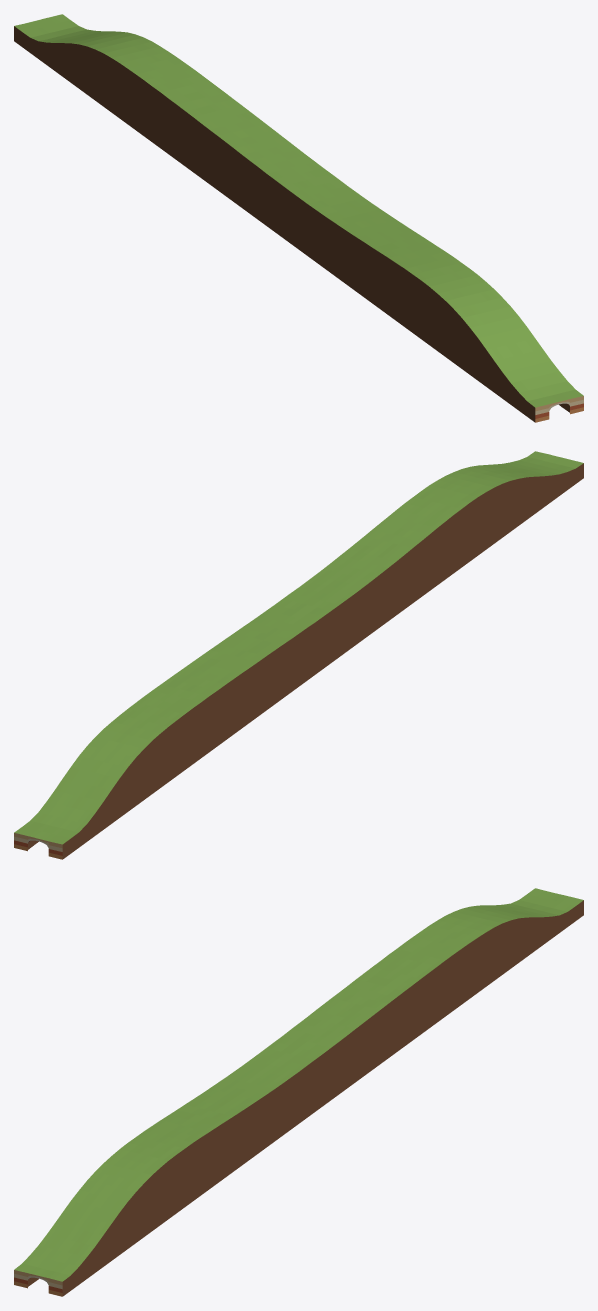
Rendered from tunel_25k.glb.
3 renders of one model, top to bottom at view 1: azimuth 30°, elevation 25°; view 2: azimuth 150°, elevation 25°; view 3: azimuth 330°, elevation 25°, orthographic.
Visible parts, largest first — view 1: tunel_25k; view 2: tunel_25k; view 3: tunel_25k.
Part boxes in pixels (<box>): tunel_25k: <box>14,14,583,422</box>; tunel_25k: <box>14,451,583,859</box>; tunel_25k: <box>14,888,583,1296</box>.
Bounding box in the file's own units: 84 × 97.13 × 1560.
